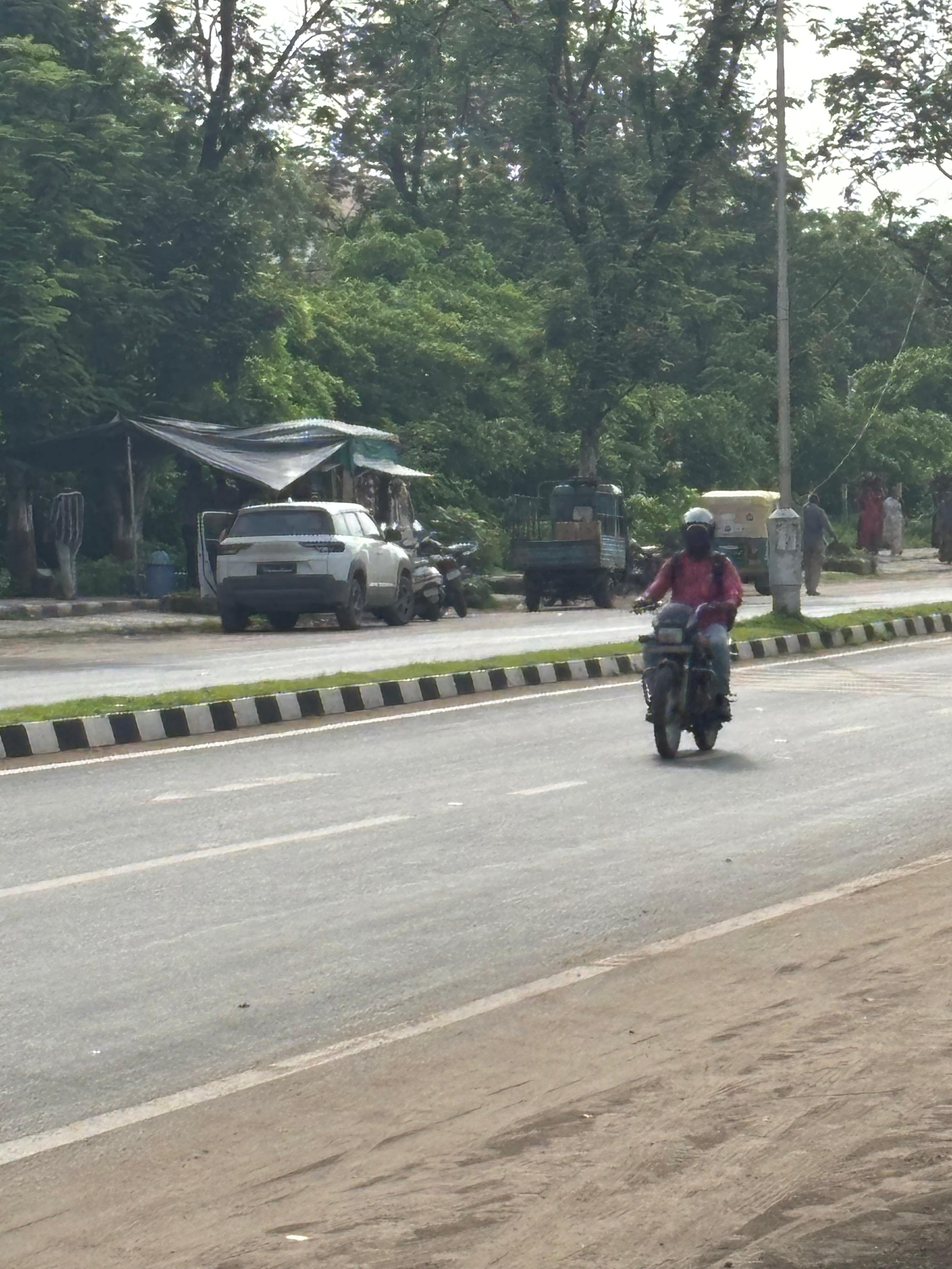BikeWithRider: (624, 498, 753, 767)
Helmet: (676, 501, 722, 558)
